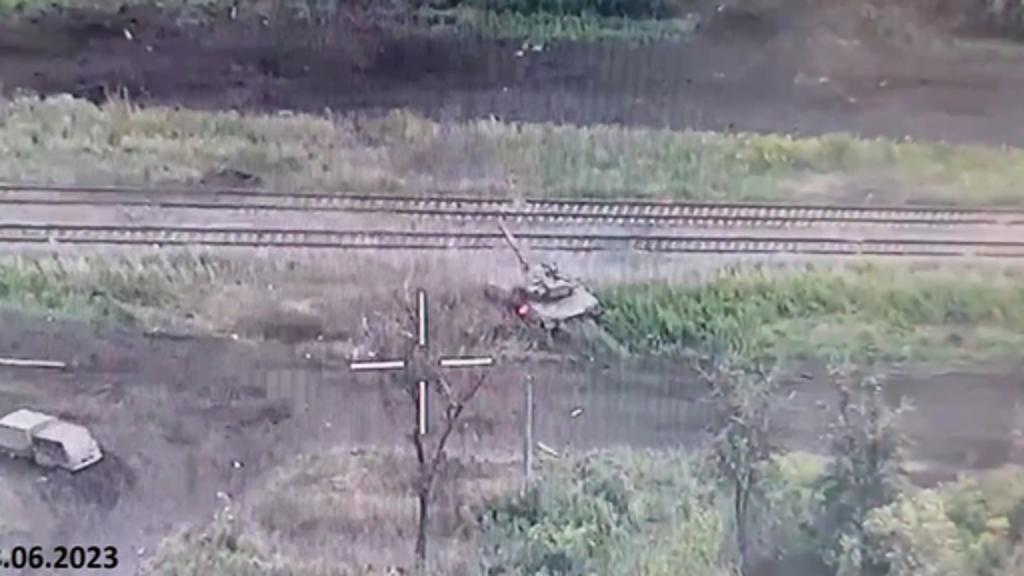TANK: (490, 220, 606, 336)
TRUCK: (0, 408, 106, 478)
